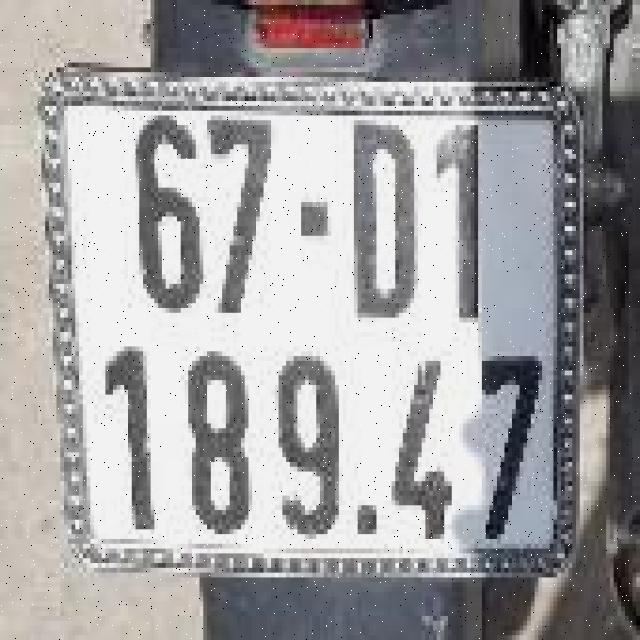1: (92, 327, 160, 539), (433, 116, 493, 347)
4: (384, 349, 459, 551)
6: (122, 101, 209, 322)
7: (203, 91, 275, 318), (467, 342, 542, 548)
8: (175, 325, 254, 546)
9: (265, 339, 341, 542)
D: (341, 106, 427, 332)
